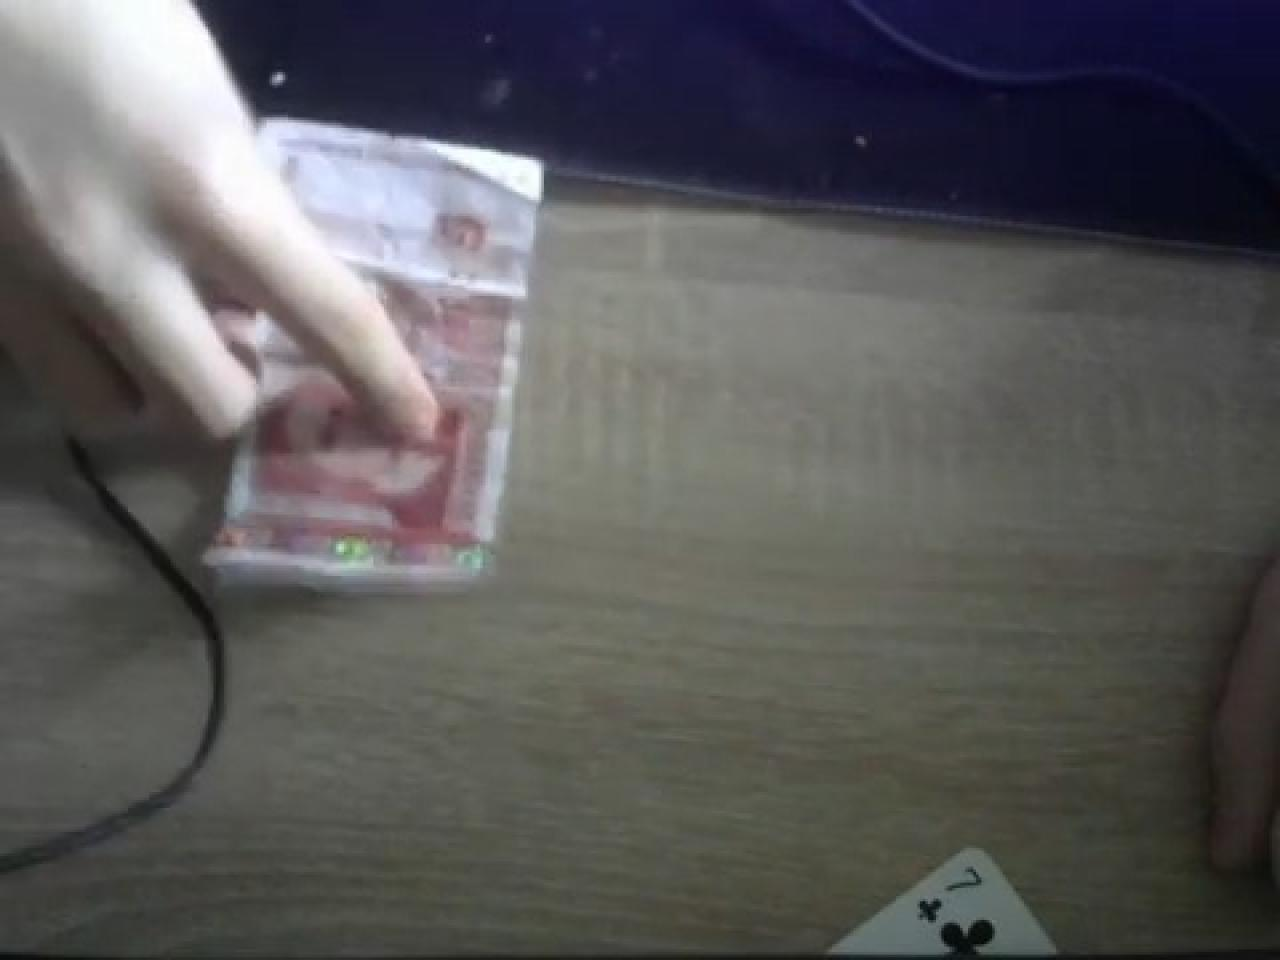5leva: (219, 125, 541, 589)
